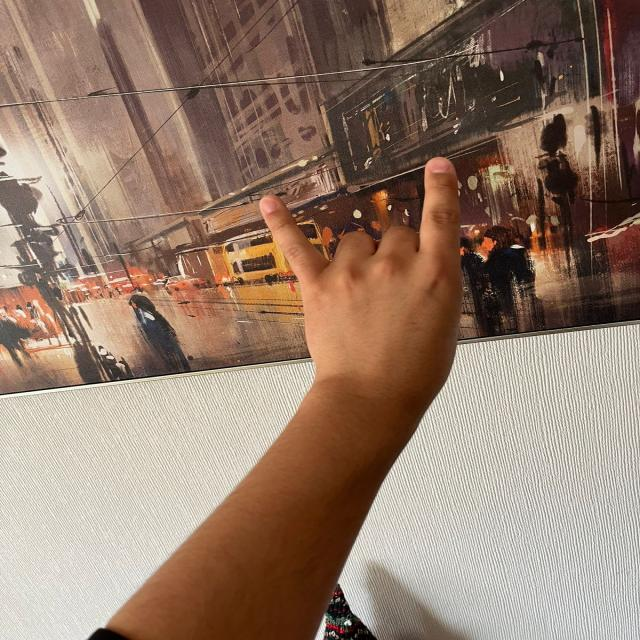U: (255, 149, 481, 410)
